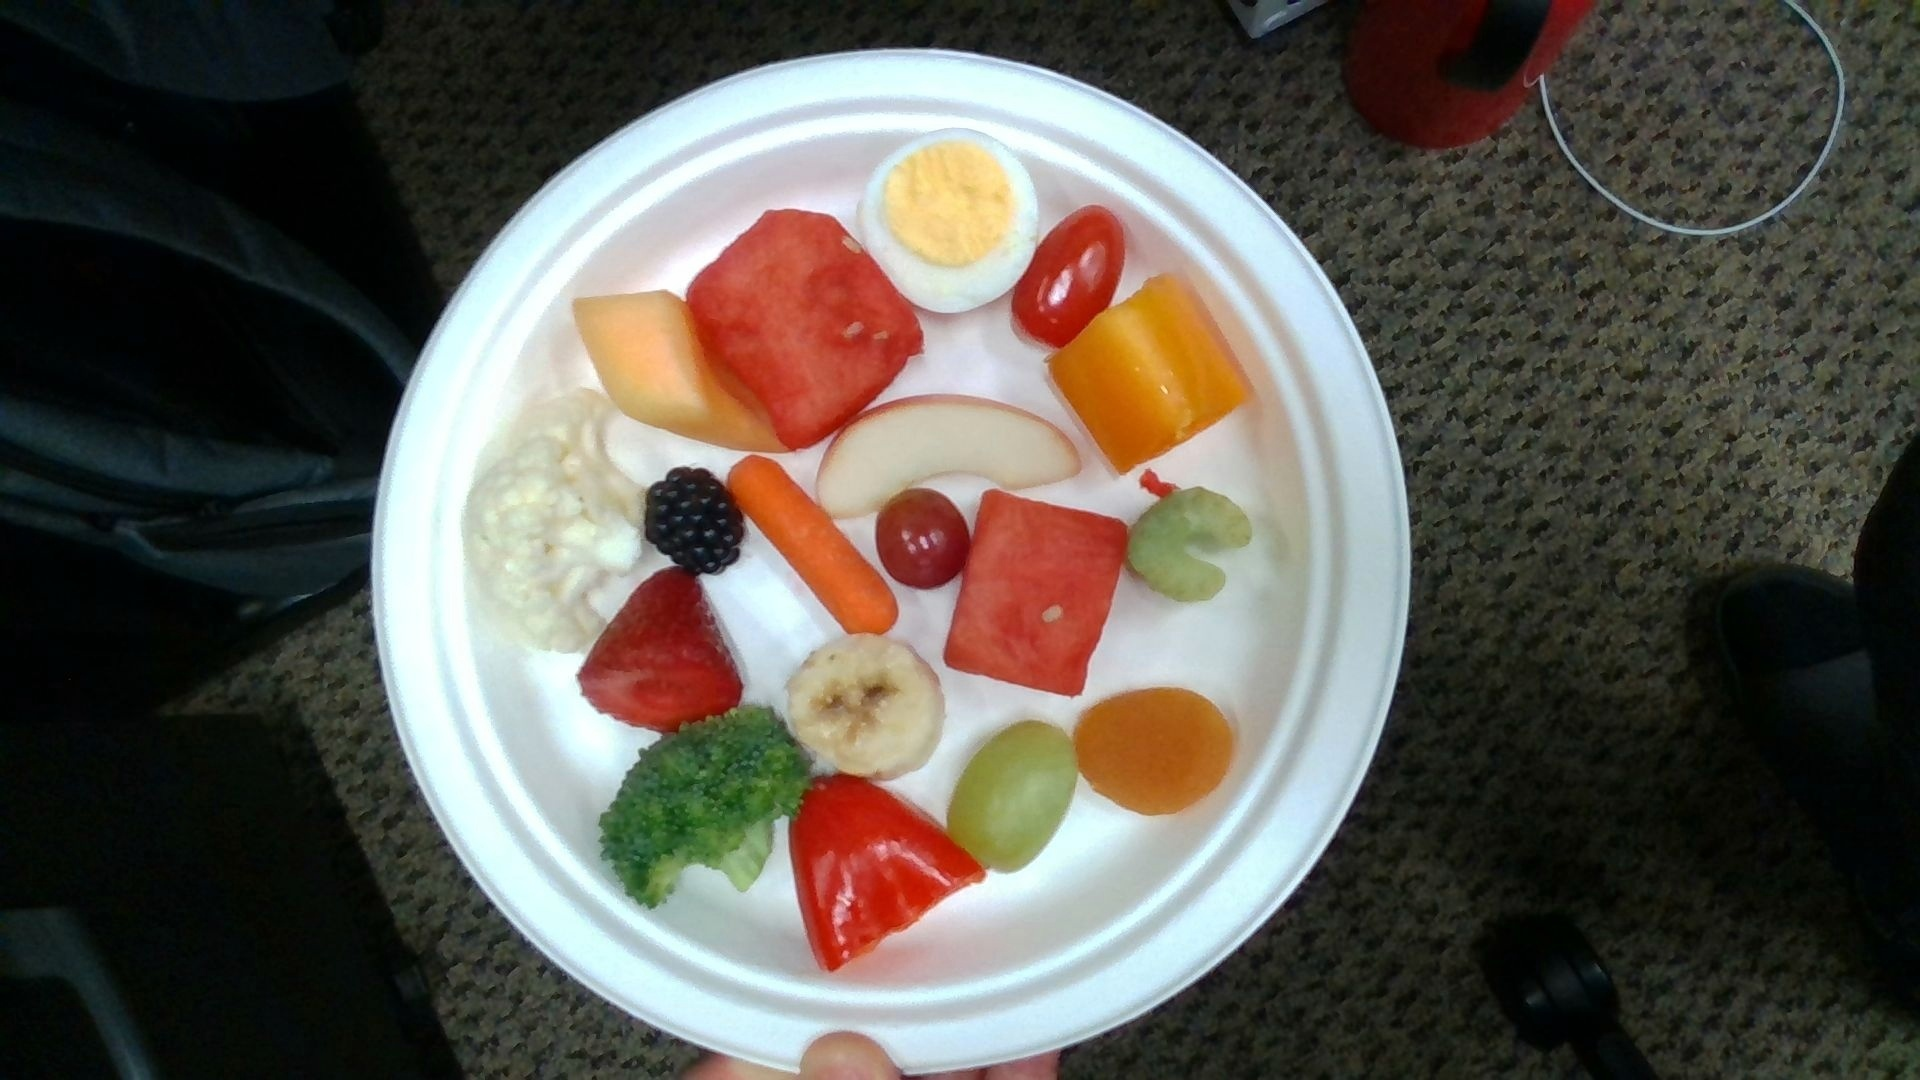apple: (818, 398, 1080, 516)
apricot: (1077, 688, 1236, 814)
banana: (787, 633, 942, 775)
bell_pepper: (1048, 276, 1249, 471), (789, 778, 984, 971)
blackberry: (647, 469, 742, 570)
broccoli: (604, 708, 812, 909)
cantalope: (572, 290, 785, 450)
carrot: (731, 455, 899, 638)
cauliflower: (465, 393, 647, 655)
celery: (1127, 487, 1251, 601)
cherry_tomato: (1014, 210, 1124, 345), (877, 491, 969, 588)
egg: (862, 128, 1039, 311)
grape_green: (949, 723, 1079, 870)
melon: (690, 210, 920, 444), (945, 493, 1120, 695)
strawberry: (580, 570, 742, 733)
